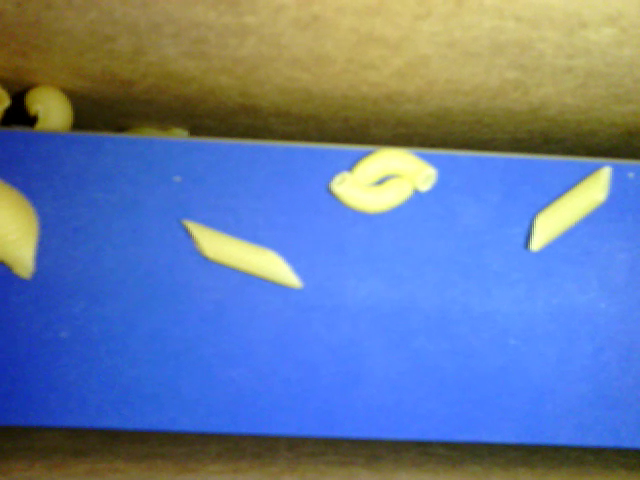elbow: (351, 148, 438, 196), (325, 171, 414, 215)
penne: (182, 220, 303, 289), (529, 166, 615, 258)
shell: (1, 178, 40, 283), (24, 87, 74, 136)
